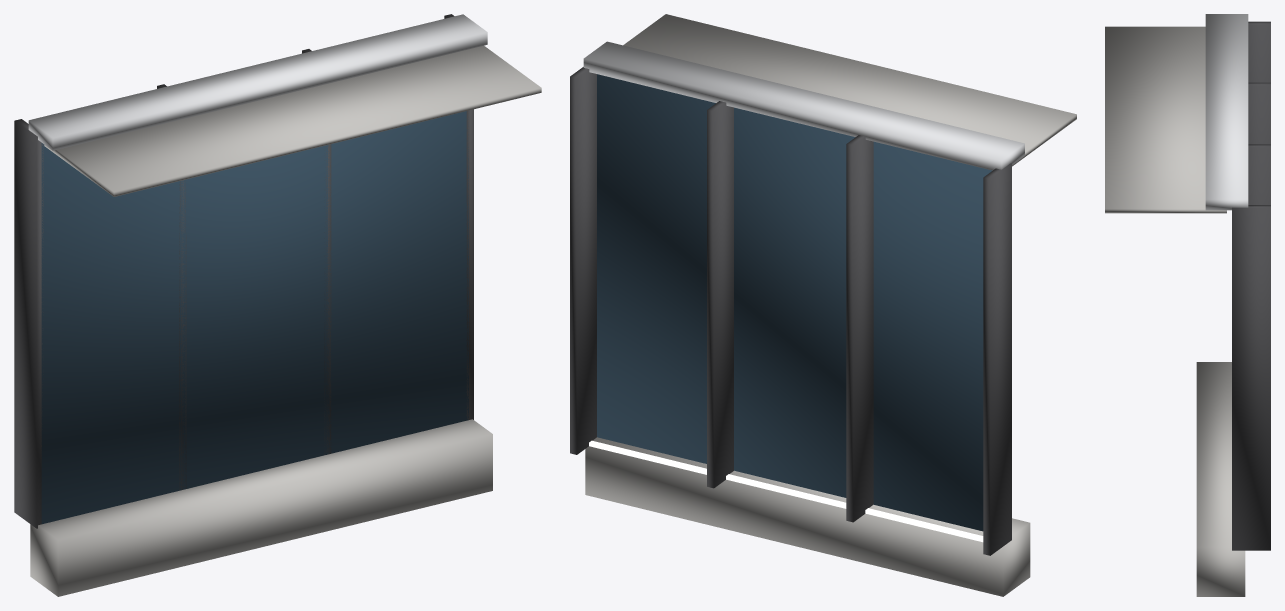
The model's file is bay_modern.glb.
The picture shows the model from 3 angles, left to right: view 1: azimuth 30°, elevation 25°; view 2: azimuth 150°, elevation 25°; view 3: azimuth 270°, elevation 25°; orthographic projection. The views are drawn at different scales.
Parts seen in each view (by area): view 1: facade_bay_modern; view 2: facade_bay_modern; view 3: facade_bay_modern.
Boxes of the visible parts, x1,y1,x2,y2 form: facade_bay_modern: [14, 14, 541, 596]; facade_bay_modern: [570, 14, 1076, 596]; facade_bay_modern: [1105, 14, 1270, 596].
Bounding box in the file's own units: 3.62 × 3.6 × 1.36.
